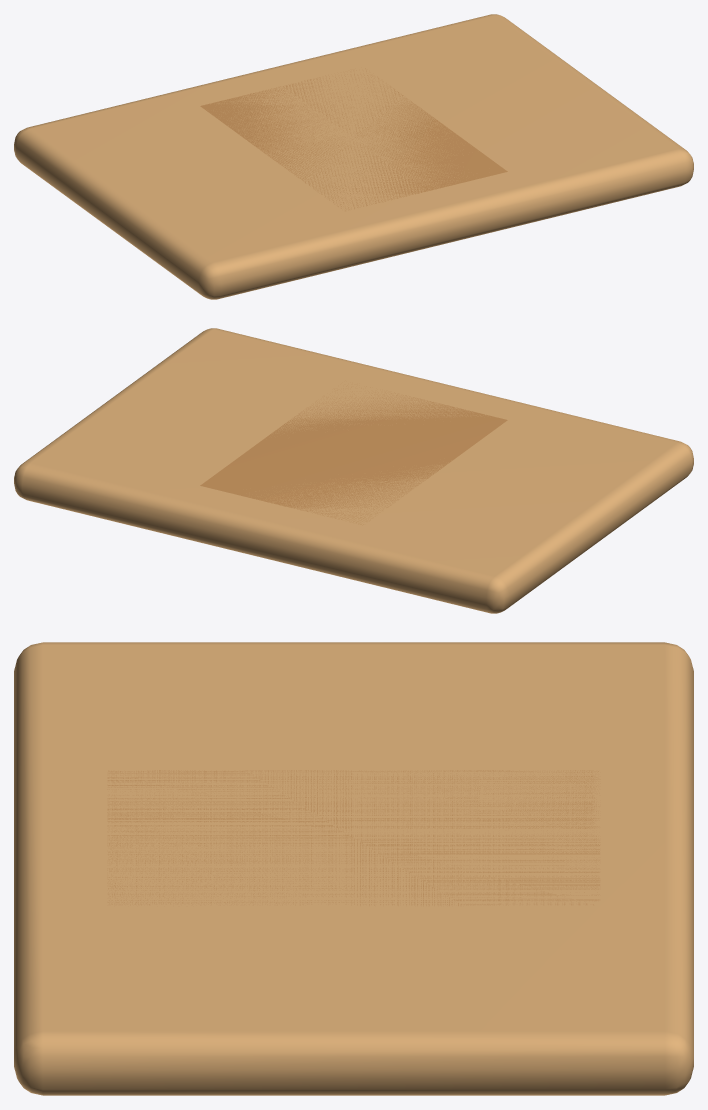
File: cutting-board.obj
The picture shows the model from 3 angles, top to bottom: view 1: azimuth 30°, elevation 25°; view 2: azimuth 150°, elevation 25°; view 3: azimuth 270°, elevation 25°; orthographic projection. The views are drawn at different scales.
Parts seen in each view (by area): view 1: cutting-board_oakLight, cutting-board_oak; view 2: cutting-board_oakLight, cutting-board_oak; view 3: cutting-board_oakLight, cutting-board_oak.
Part boxes in pixels (box(x1,y1,x2,y2)): cutting-board_oakLight: box(14, 14, 693, 299); cutting-board_oak: box(200, 68, 507, 211); cutting-board_oakLight: box(14, 328, 693, 613); cutting-board_oak: box(200, 385, 507, 525); cutting-board_oakLight: box(14, 642, 693, 1095); cutting-board_oak: box(107, 770, 600, 906).
Bounding box in the file's own units: 0.4 × 0.032 × 0.28.
